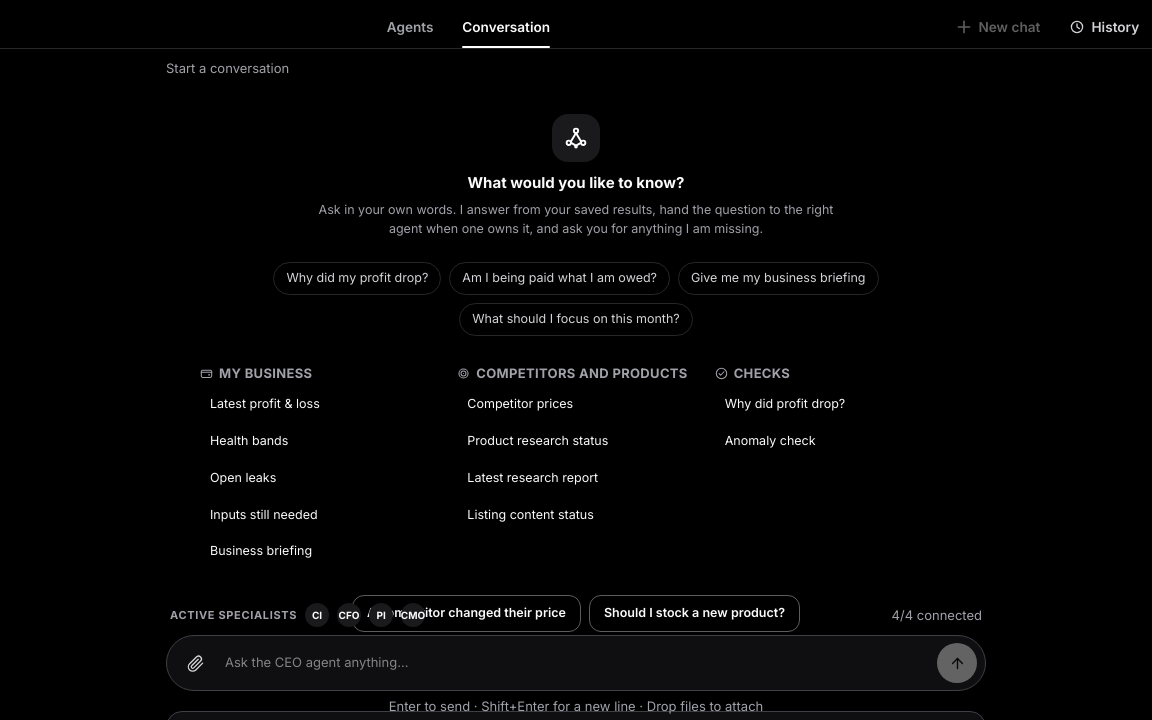
Test case: empty and new states › creates an investigation through the existing endpoint and opens it as a new, empty conversation
The image size is (1152, 720).
Click the button with test id "open-drawer" at (1104, 27), box 1056,8 -> 1151,46
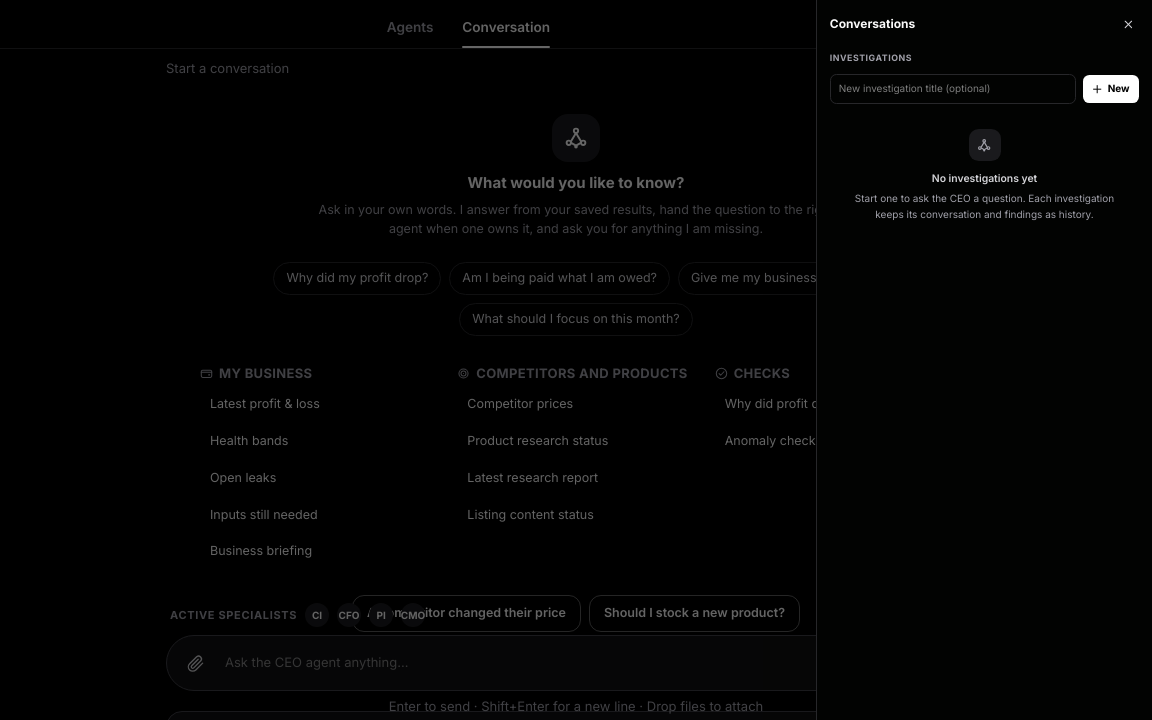
Expected: the text "No investigations yet" is shown, 932,171 -> 1037,186
Type "Margins" into the field named "Title for a new investigation" at (953, 89), box 830,74 -> 1076,104
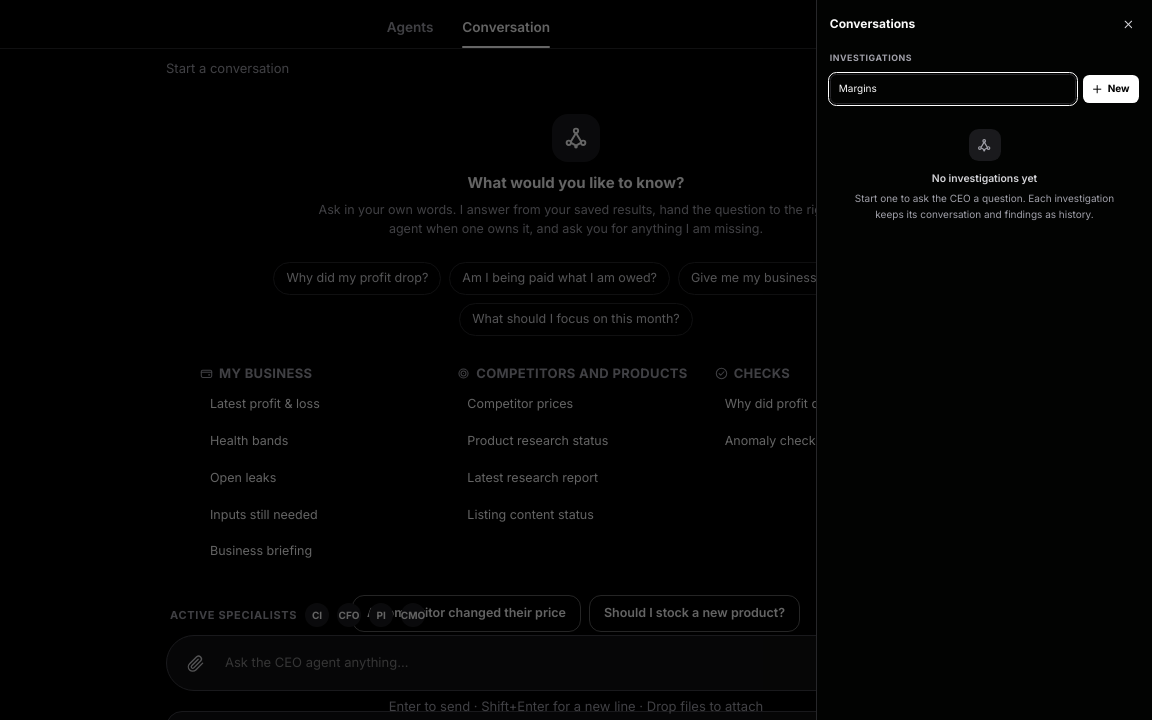
Click the button "New" at (1111, 89), box 1083,75 -> 1139,103
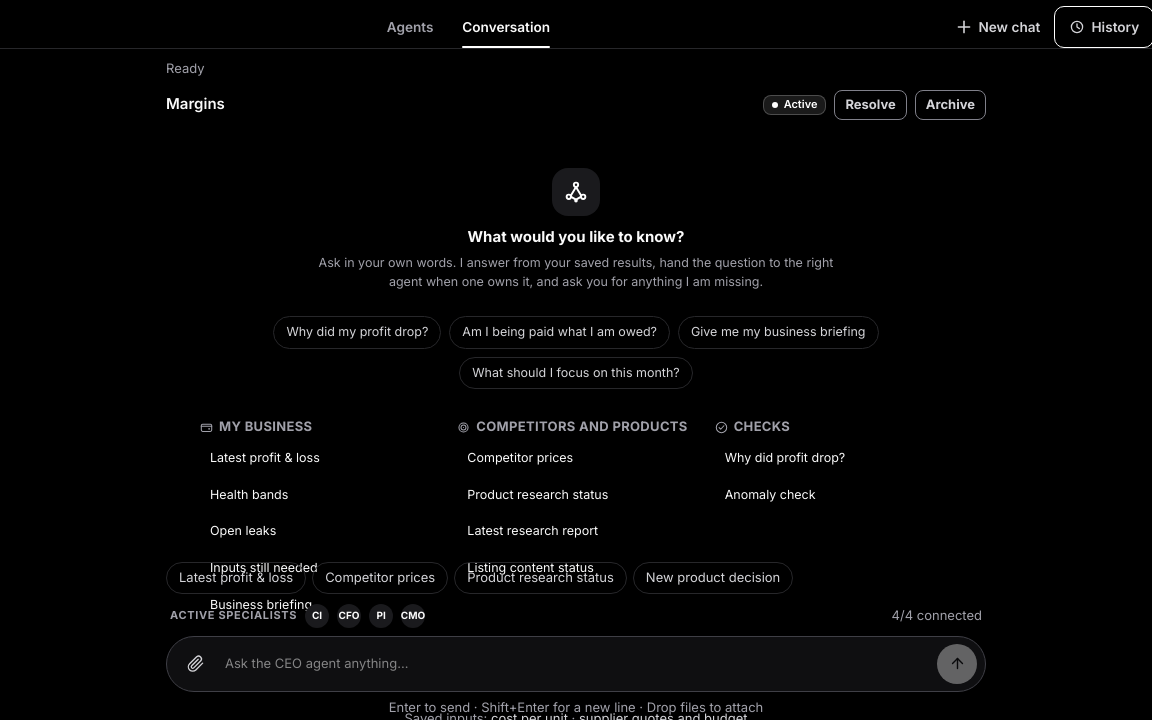
Expected: the heading "Margins" is shown, 166,94 -> 225,114
